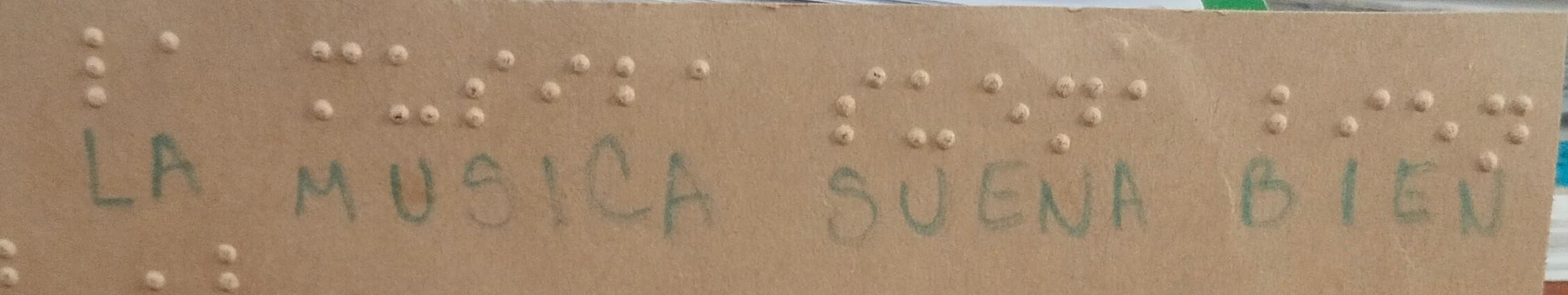a: (659, 35, 720, 121), (132, 19, 208, 62), (1113, 64, 1160, 118)
b: (1255, 62, 1311, 152)
c: (591, 31, 655, 125)
e: (976, 64, 1035, 152), (1408, 74, 1465, 164)
i: (1321, 68, 1401, 158), (522, 31, 593, 128)
l: (66, 17, 130, 121)
m: (293, 33, 368, 125)
n: (1039, 64, 1113, 156), (1470, 74, 1538, 171)
s: (820, 55, 895, 158), (451, 31, 522, 133)
u: (369, 33, 451, 133), (900, 64, 974, 159)
